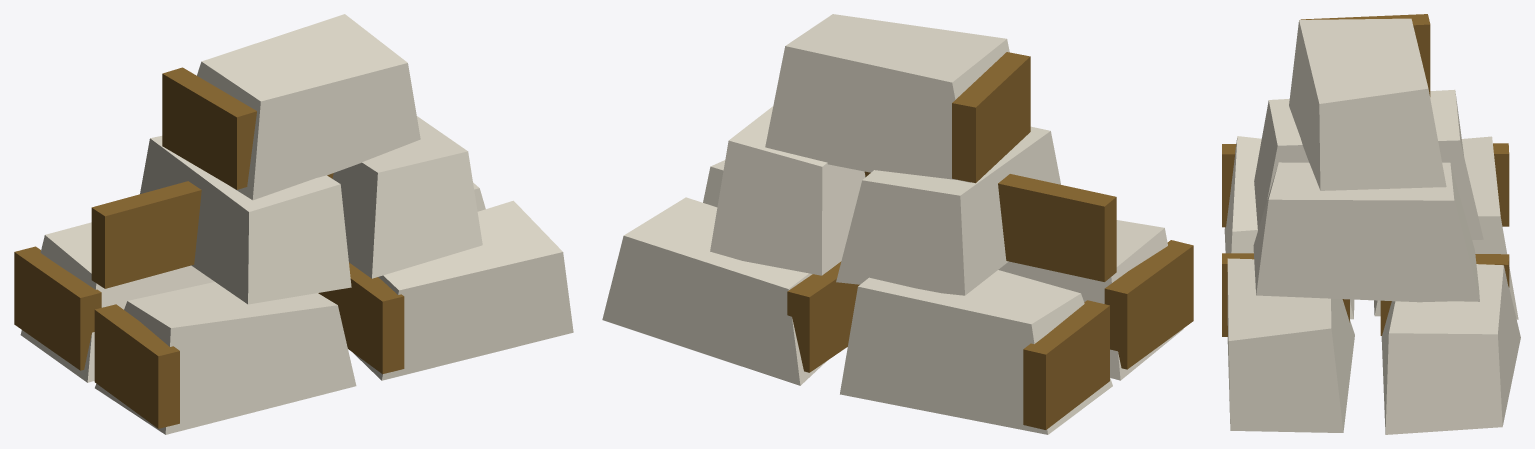
Rendered from good_salt.glb.
The picture shows the model from 3 angles, left to right: view 1: azimuth 30°, elevation 25°; view 2: azimuth 150°, elevation 25°; view 3: azimuth 270°, elevation 25°; orthographic projection. The views are drawn at different scales.
Visible parts, largest first — view 1: good_salt; view 2: good_salt; view 3: good_salt.
Part boxes in pixels (x1=…): good_salt: x1=14, y1=14, x2=573, y2=434; good_salt: x1=602, y1=14, x2=1193, y2=434; good_salt: x1=1222, y1=14, x2=1520, y2=434.
Size of the model in its own units: 0.5939 by 0.3675 by 0.3573.
